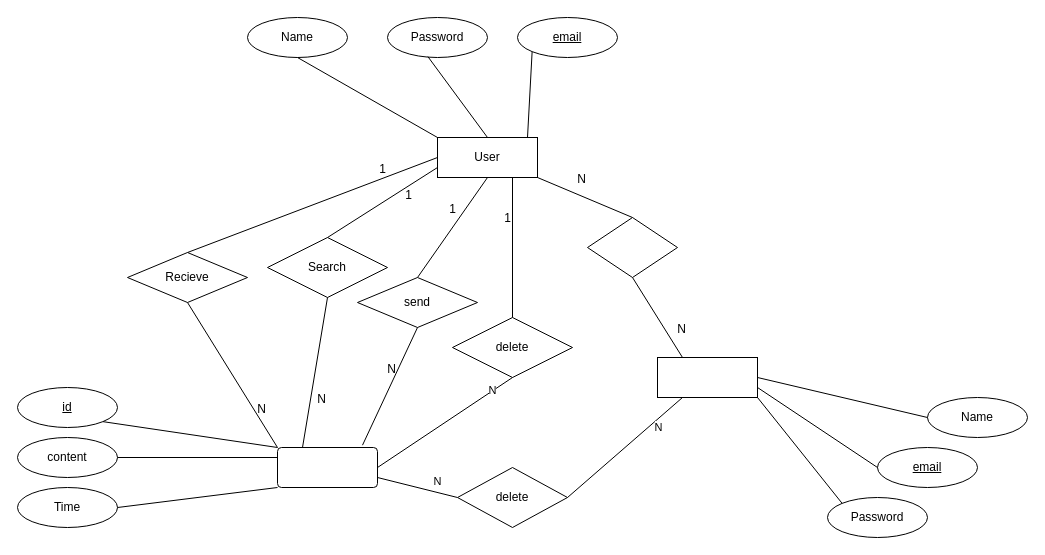
This 1045x555 diagram has some shape labels left out. The centre of each missing label's shape, as x and y in pixels:
Admin: point (707, 377)
Ban/unban: point (632, 247)
Messages: point (327, 467)
